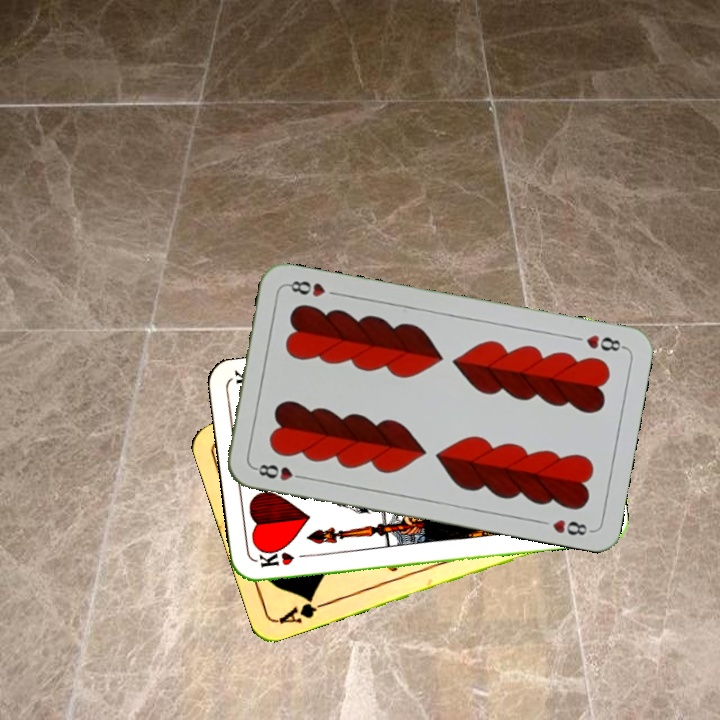GA: (275, 591, 332, 627)
H8: (250, 460, 309, 483), (582, 330, 628, 354)
HK: (254, 548, 314, 570)
